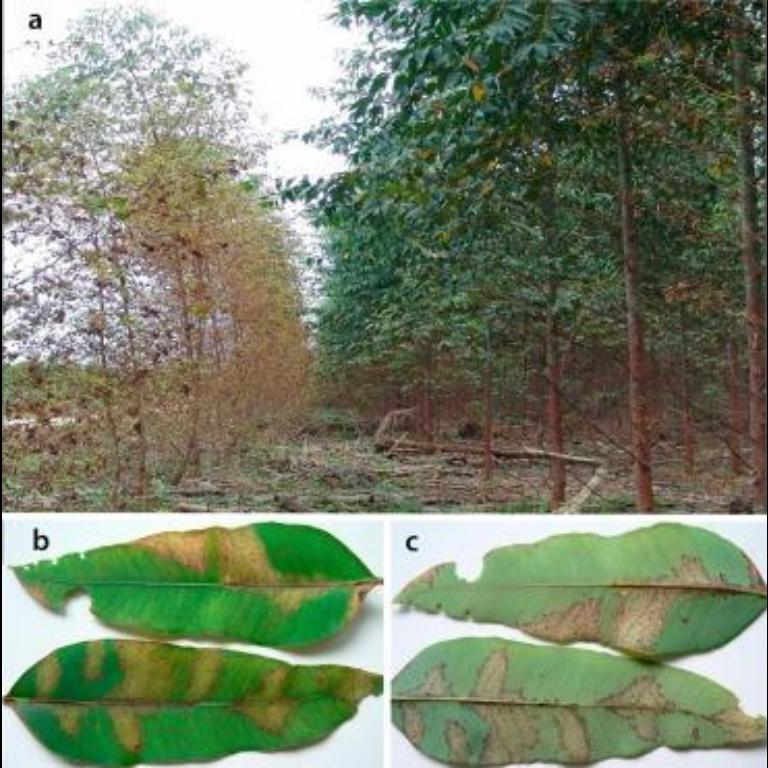blight: (416, 646, 588, 768), (67, 667, 302, 739), (138, 532, 302, 622), (566, 534, 722, 626)
